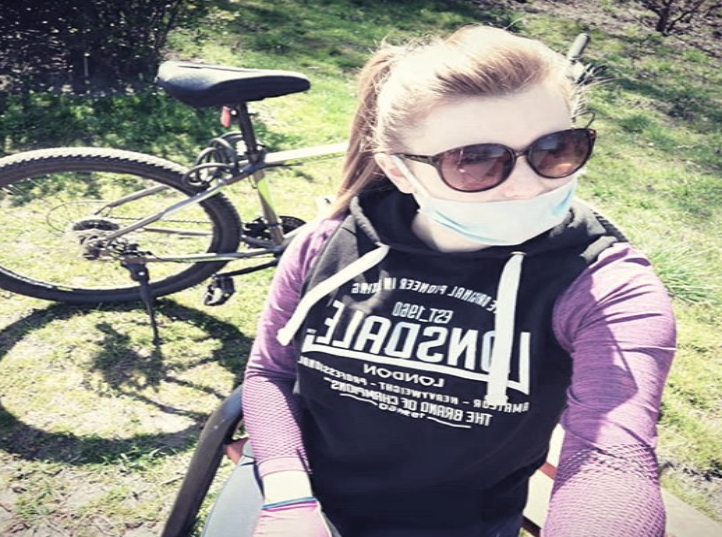mask_weared_incorrect: (362, 30, 602, 249)
